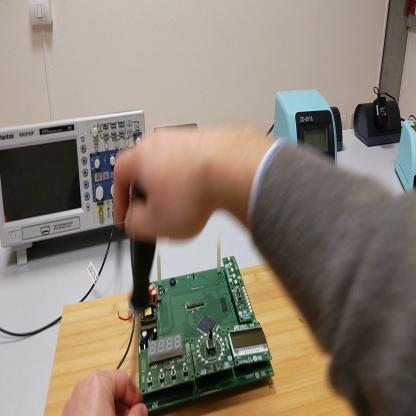hand: (111, 125, 222, 248), (62, 367, 146, 411)
low voltage board: (118, 236, 275, 411)
oscilloscope: (1, 113, 147, 268)
screwdriver-: (131, 196, 157, 399)
socket: (354, 101, 402, 147), (331, 107, 343, 152)
welder base: (397, 117, 416, 194)
welder station: (274, 94, 339, 172)
working area: (44, 265, 359, 415)
